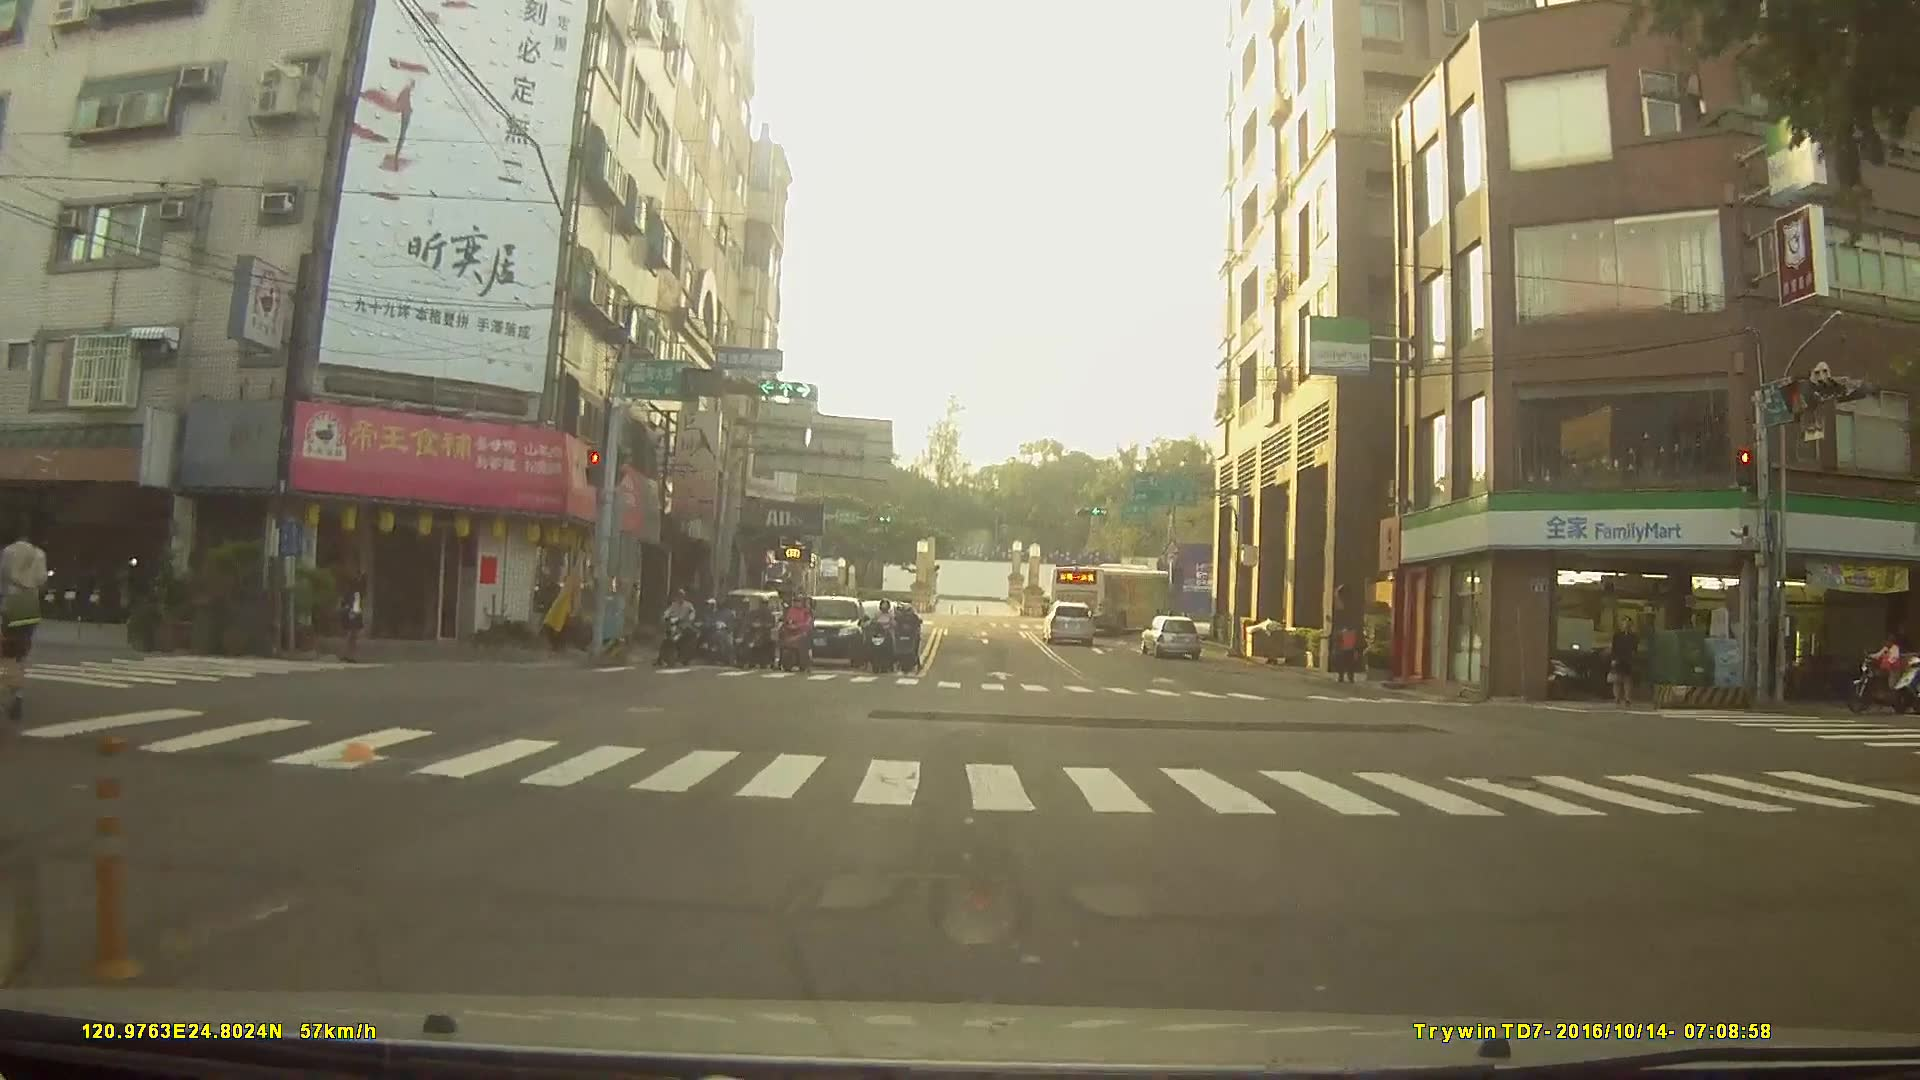pedestrian: (1, 516, 56, 728), (337, 576, 372, 667), (1607, 619, 1641, 709), (1332, 625, 1364, 689)
rider: (1848, 628, 1913, 712), (662, 588, 700, 672), (780, 593, 818, 679), (890, 599, 928, 673), (743, 601, 779, 673), (1890, 632, 1920, 715), (871, 604, 903, 681), (705, 598, 737, 665)
vehicle: (1050, 563, 1175, 636), (789, 593, 868, 666), (1136, 614, 1201, 658), (1043, 599, 1097, 646)
